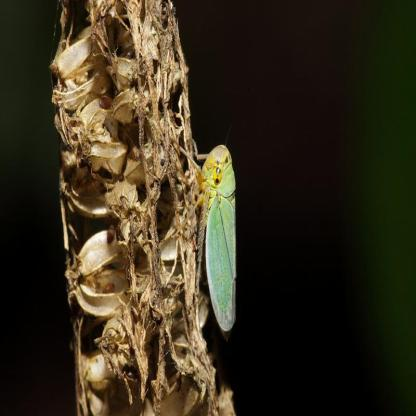Green-Leafhopper: (181, 132, 240, 334)
